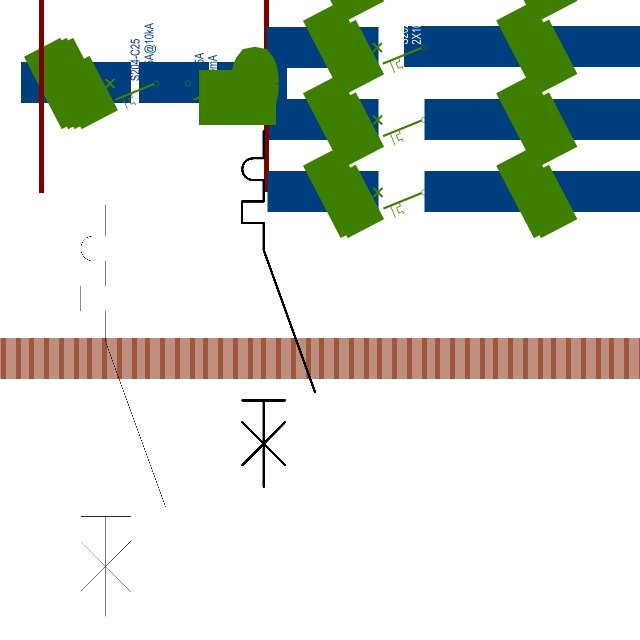interruptor_termomagnetico: (70, 194, 176, 627), (233, 122, 324, 496)
